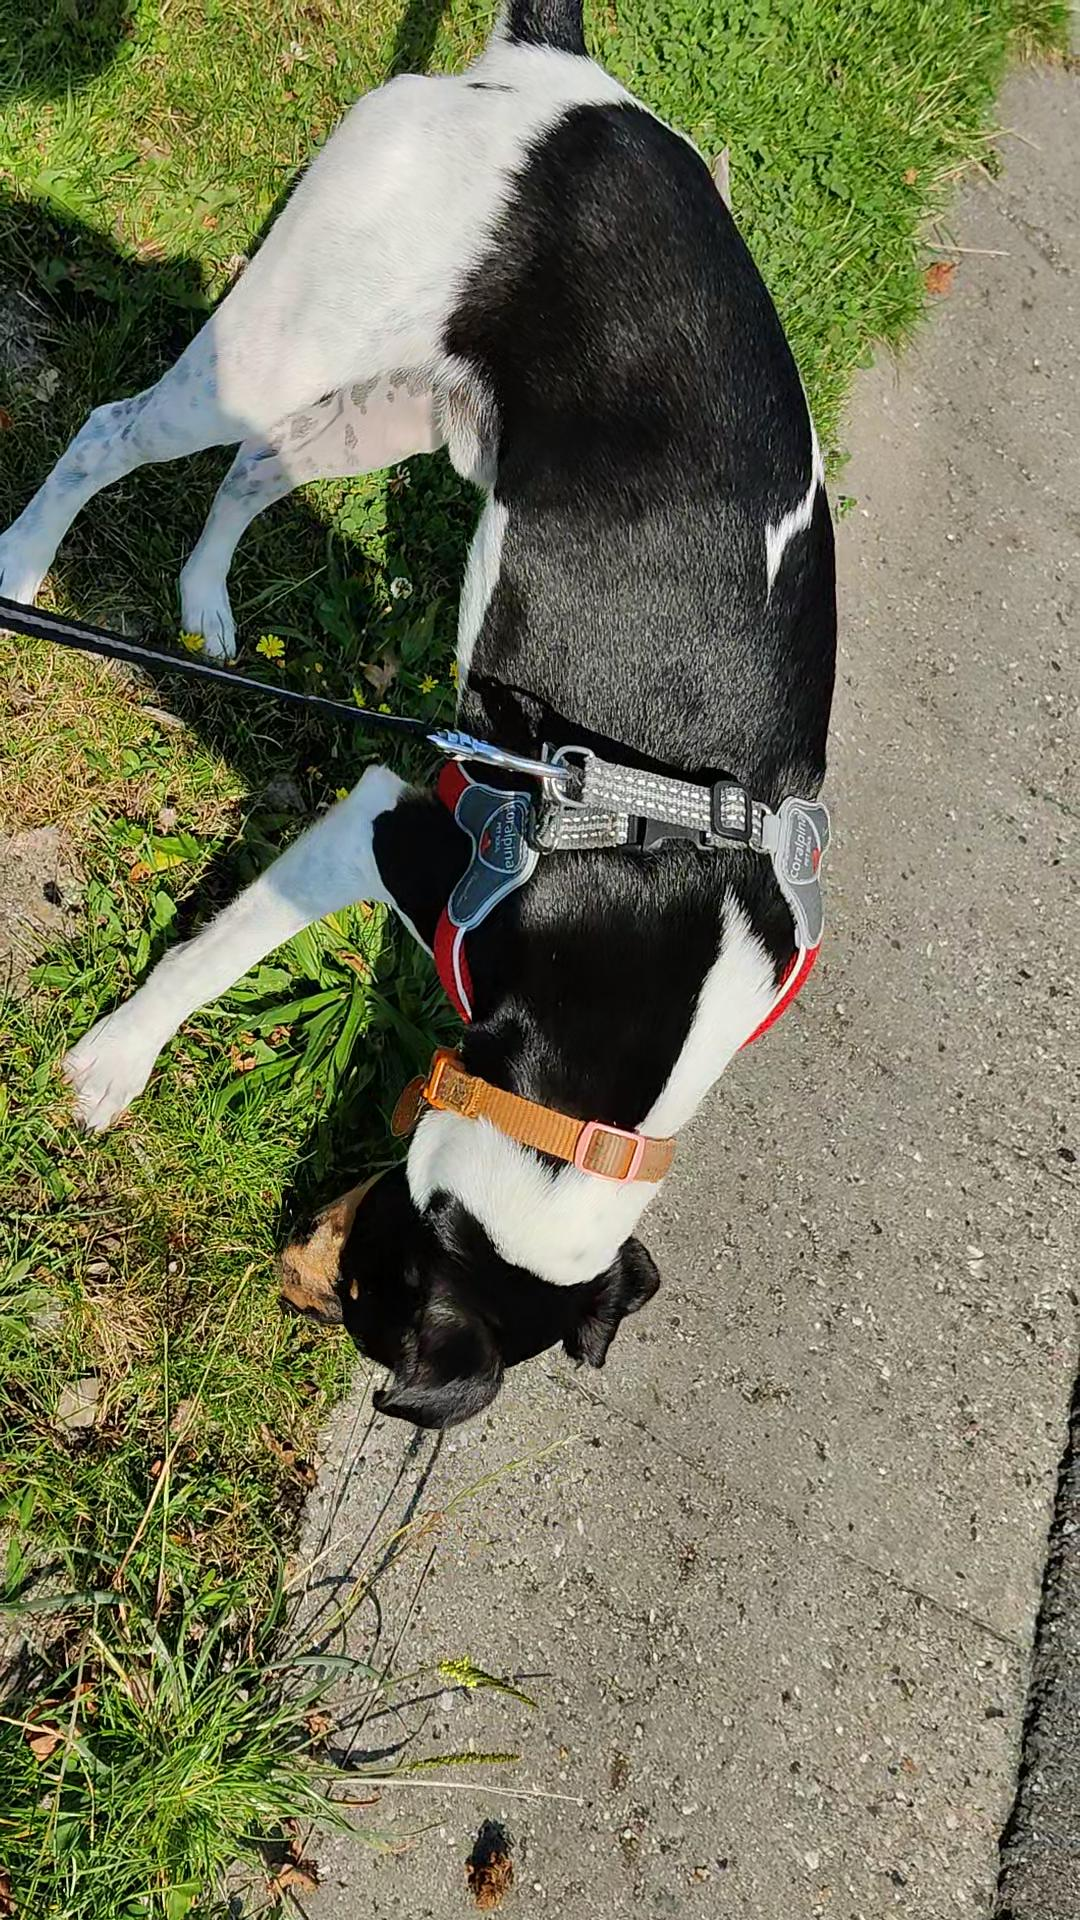Dog: (0, 0, 851, 1453)
